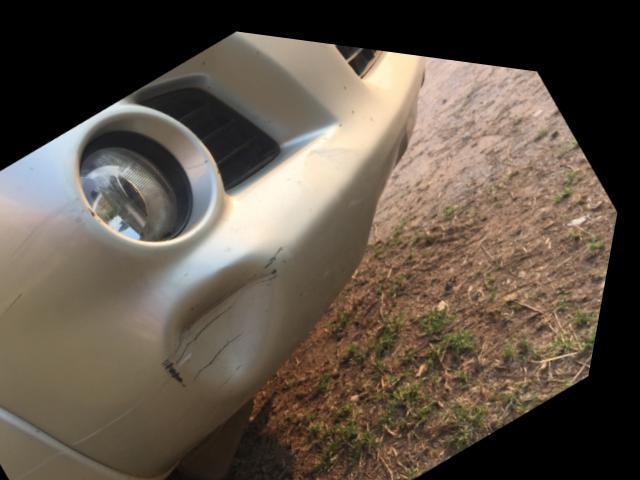dent: (174, 251, 292, 384)
